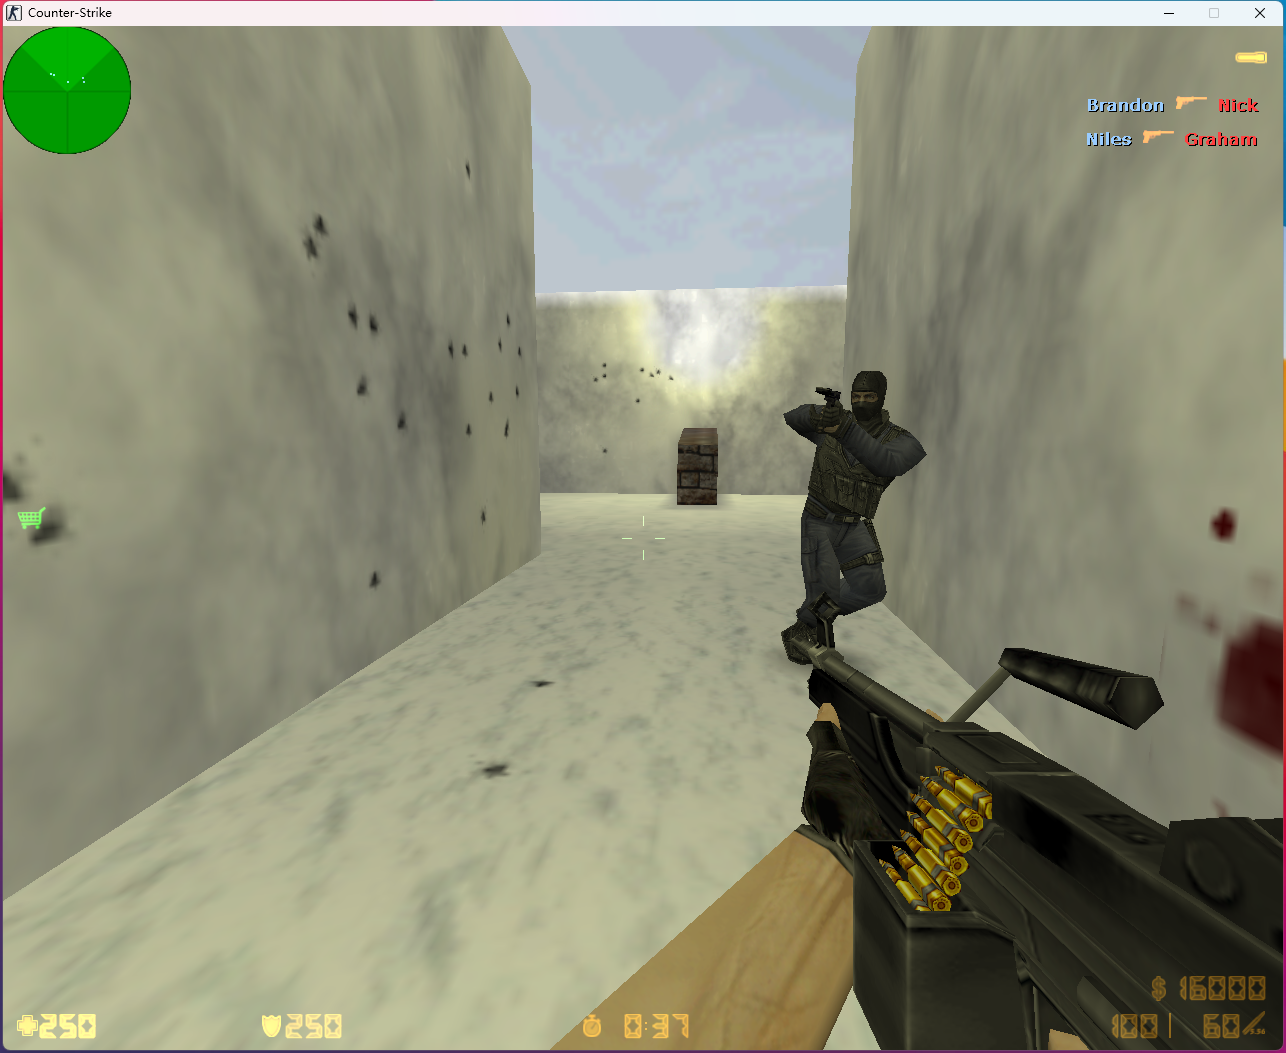C: (784, 368, 925, 670)
